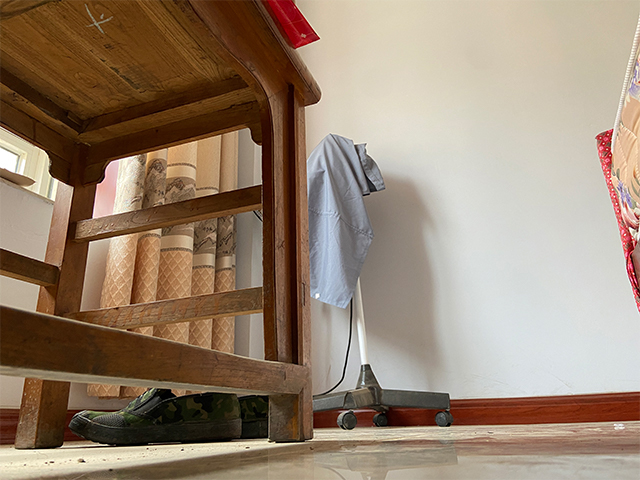curtain: (86, 130, 237, 399)
stool: (1, 1, 321, 451)
